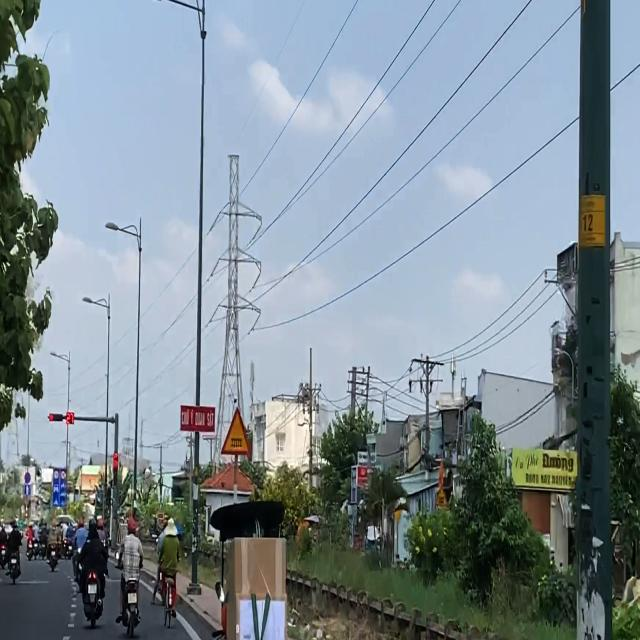Nguy hiem: (219, 404, 253, 458)
